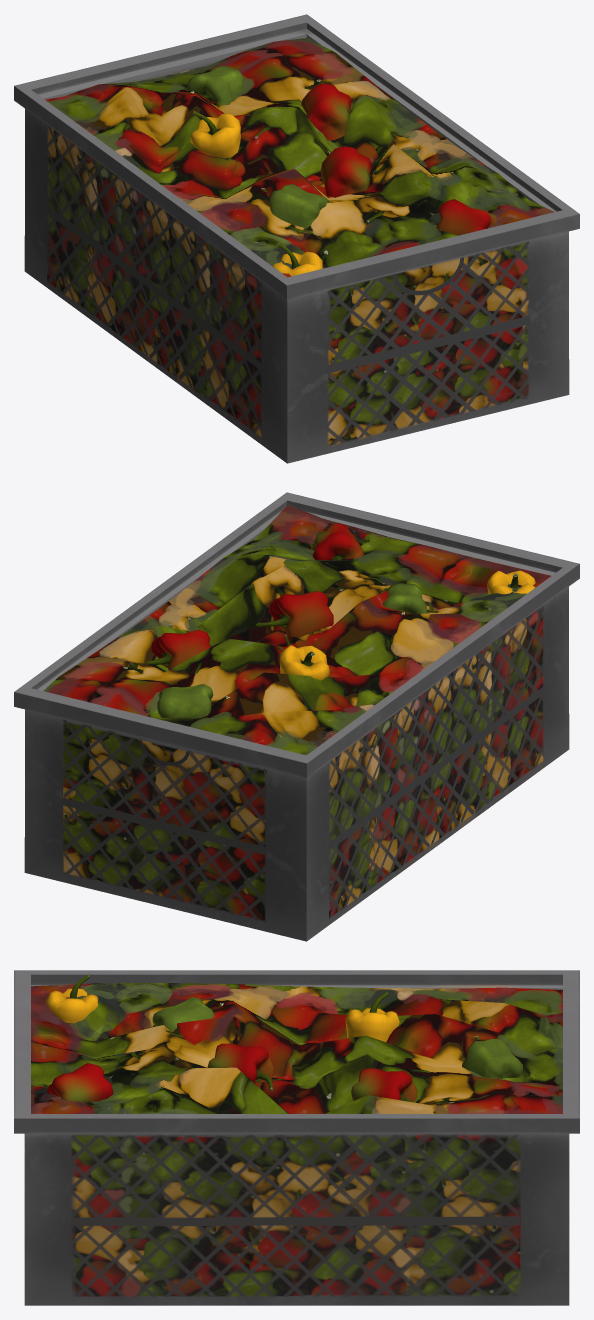
The model's file is caja de pimentones.fbx.
3 views of the same model, one above another, from view 1: azimuth 30°, elevation 25°; view 2: azimuth 150°, elevation 25°; view 3: azimuth 270°, elevation 25° (orthographic). The views are drawn at different scales.
Parts seen in each view (by area): view 1: caja de pimentones, plano pimentones, Pimenton.003, Pimenton.007, Pimenton.005, Pimenton.004, Pimenton.006, Pimenton.002, Pimenton.001; view 2: caja de pimentones, plano pimentones, Pimenton.003, Pimenton.006, Pimenton.007, Pimenton.002, Pimenton.005, Pimenton.004, Pimenton.001; view 3: caja de pimentones, plano pimentones, Pimenton.006, Pimenton.002, Pimenton.003, Pimenton.007, Pimenton.005, Pimenton.001, Pimenton.004.
Boxes of the visible parts, <box> form: caja de pimentones: <box>14,14,579,463</box>; plano pimentones: <box>45,38,554,277</box>; Pimenton.003: <box>320,146,372,197</box>; Pimenton.007: <box>301,83,351,140</box>; Pimenton.005: <box>190,111,240,158</box>; Pimenton.004: <box>261,184,329,227</box>; Pimenton.006: <box>186,66,243,105</box>; Pimenton.002: <box>436,199,496,235</box>; Pimenton.001: <box>272,242,322,276</box>; caja de pimentones: <box>14,492,579,941</box>; plano pimentones: <box>43,504,551,755</box>; Pimenton.003: <box>256,591,333,637</box>; Pimenton.006: <box>157,683,229,718</box>; Pimenton.007: <box>146,629,210,669</box>; Pimenton.002: <box>312,523,363,560</box>; Pimenton.005: <box>279,645,329,680</box>; Pimenton.004: <box>382,583,428,614</box>; Pimenton.001: <box>487,570,535,594</box>; caja de pimentones: <box>14,970,579,1305</box>; plano pimentones: <box>31,983,562,1113</box>; Pimenton.006: <box>462,1036,522,1079</box>; Pimenton.002: <box>47,1063,113,1101</box>; Pimenton.003: <box>207,1043,273,1090</box>; Pimenton.007: <box>351,1068,417,1102</box>; Pimenton.005: <box>345,991,399,1042</box>; Pimenton.001: <box>46,974,98,1023</box>; Pimenton.004: <box>152,997,223,1031</box>.
Bounding box in the file's own units: 46.96 × 31.4 × 75.73.
